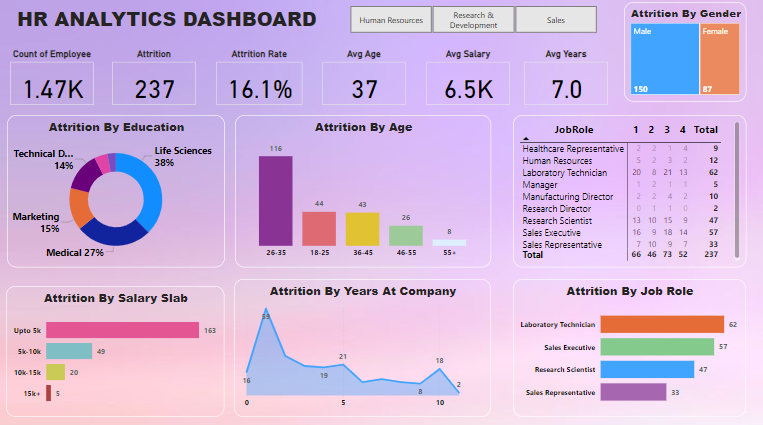

The page's visual inventory and layout, read from the dashboard file:
{"tool":"powerbi","page":{"name":"Page 1","canvas":[1280,720],"ordinal":0},"visuals":[{"type":"cardVisual","title":"Count of Employee","fields":{"Data":["CountNonNull(HR_Analytics.EmpID)"]},"box":[14.3,82.9,150,100],"z":0},{"type":"cardVisual","title":"Attrition","fields":{"Data":["Sum(HR_Analytics.AttritionCount)"]},"box":[185.7,82.9,150,100],"z":1},{"type":"cardVisual","title":"Avg Age","fields":{"Data":["Avg(HR_Analytics.Age)"]},"box":[535.7,82.9,150,100],"z":2},{"type":"cardVisual","title":"Attrition Rate","fields":{"Data":["HR_Analytics.AttritonRate"]},"box":[358.6,82.9,154.3,100],"z":3},{"type":"cardVisual","title":"Avg Salary","fields":{"Data":["Avg(HR_Analytics.MonthlyIncome)"]},"box":[708.6,82.9,150,100],"z":4},{"type":"cardVisual","title":"Avg Years","fields":{"Data":["Avg(HR_Analytics.YearsAtCompany)"]},"box":[871.4,82.9,150,100],"z":5},{"type":"donutChart","title":"Attrition By Education","fields":{"Category":["HR_Analytics.EducationField"],"Y":["Sum(HR_Analytics.AttritionCount)"]},"box":[14.3,194.3,362.9,254.3],"z":6},{"type":"columnChart","title":"Attrition By Age","fields":{"Category":["HR_Analytics.AgeGroup"],"Y":["Sum(HR_Analytics.AttritionCount)"]},"box":[394.3,194.3,427.1,254],"z":7},{"type":"pivotTable","fields":{"Rows":["HR_Analytics.JobRole"],"Columns":["HR_Analytics.JobSatisfaction"],"Values":["Sum(HR_Analytics.AttritionCount)"]},"box":[858.6,194.3,388.6,254.3],"z":8},{"type":"barChart","title":"Attrition By Salary Slab","fields":{"Category":["HR_Analytics.SalarySlab"],"Y":["Sum(HR_Analytics.AttritionCount)"]},"box":[14,480,364,218],"z":9},{"type":"barChart","title":"Attrition By Job Role","fields":{"Category":["HR_Analytics.JobRole"],"Y":["Sum(HR_Analytics.AttritionCount)"]},"box":[858,468,388,230],"z":10},{"type":"areaChart","title":"Attrition By Years At Company","fields":{"Category":["HR_Analytics.YearsAtCompany"],"Y":["Sum(HR_Analytics.AttritionCount)"]},"box":[394,468,428,230],"z":11},{"type":"treemap","title":"Attrition By Gender","fields":{"Group":["HR_Analytics.Gender"],"Values":["Sum(HR_Analytics.AttritionCount)"]},"box":[1042.9,7.1,204.3,165.7],"z":12},{"type":"slicer","fields":{"Values":["HR_Analytics.Department"]},"box":[561.4,7.1,460,52.9],"z":13},{"type":"textbox","box":[27.1,7.1,521.4,58.6],"z":14}]}

Visuals, with their boxes in screenshot pixels (x1, y1, x2, y2), scaled from the page's 1280x720 canvas onto the 763x425 screenshot:
"Count of Employee" cardVisual: rect(9, 49, 98, 108)
"Attrition" cardVisual: rect(111, 49, 200, 108)
"Avg Age" cardVisual: rect(319, 49, 409, 108)
"Attrition Rate" cardVisual: rect(214, 49, 306, 108)
"Avg Salary" cardVisual: rect(422, 49, 512, 108)
"Avg Years" cardVisual: rect(519, 49, 609, 108)
"Attrition By Education" donutChart: rect(9, 115, 225, 265)
"Attrition By Age" columnChart: rect(235, 115, 490, 265)
pivotTable - HR_Analytics.JobRole x HR_Analytics.JobSatisfaction: rect(512, 115, 743, 265)
"Attrition By Salary Slab" barChart: rect(8, 283, 225, 412)
"Attrition By Job Role" barChart: rect(511, 276, 743, 412)
"Attrition By Years At Company" areaChart: rect(235, 276, 490, 412)
"Attrition By Gender" treemap: rect(622, 4, 743, 102)
slicer - HR_Analytics.Department: rect(335, 4, 609, 35)
textbox: rect(16, 4, 327, 39)
